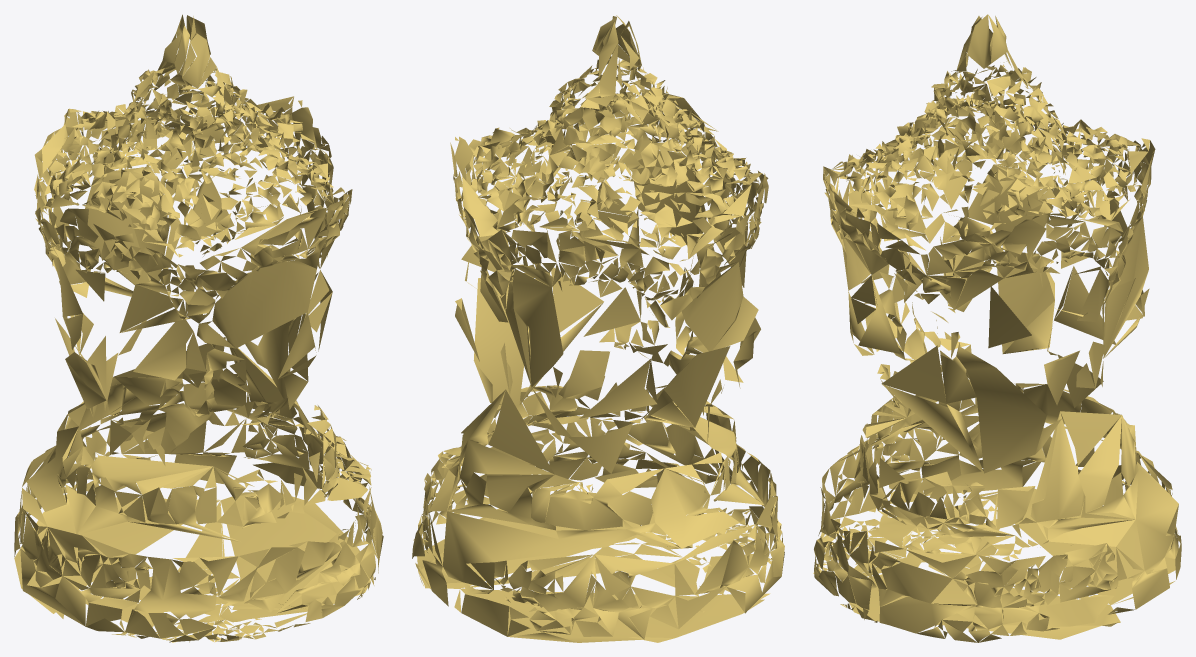
File: far.glb
The picture shows the model from 3 angles, left to right: view 1: azimuth 30°, elevation 25°; view 2: azimuth 150°, elevation 25°; view 3: azimuth 270°, elevation 25°; orthographic projection.
Visible parts, largest first — view 1: statue-009; view 2: statue-009; view 3: statue-009.
Boxes of the visible parts, x1=… form: statue-009: x1=14, y1=14, x2=383, y2=642; statue-009: x1=412, y1=15, x2=784, y2=642; statue-009: x1=813, y1=14, x2=1181, y2=642.
Size of the model in its own units: 0.6103 by 0.9863 by 0.5977.
